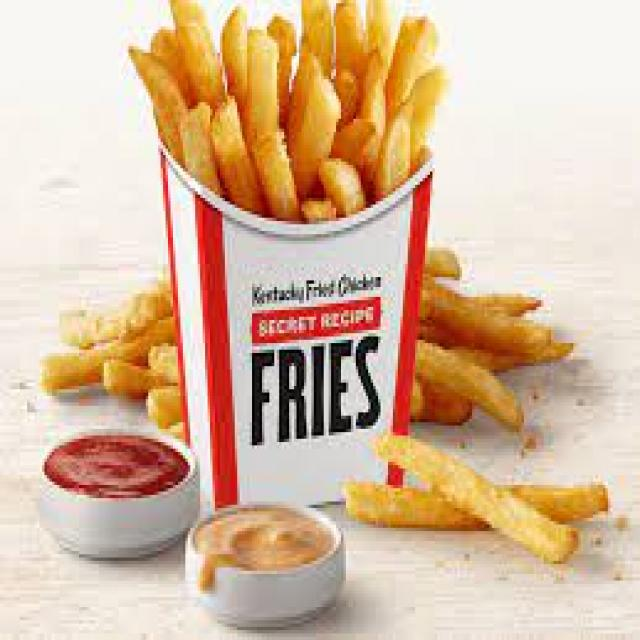Fries: (113, 4, 478, 528)
